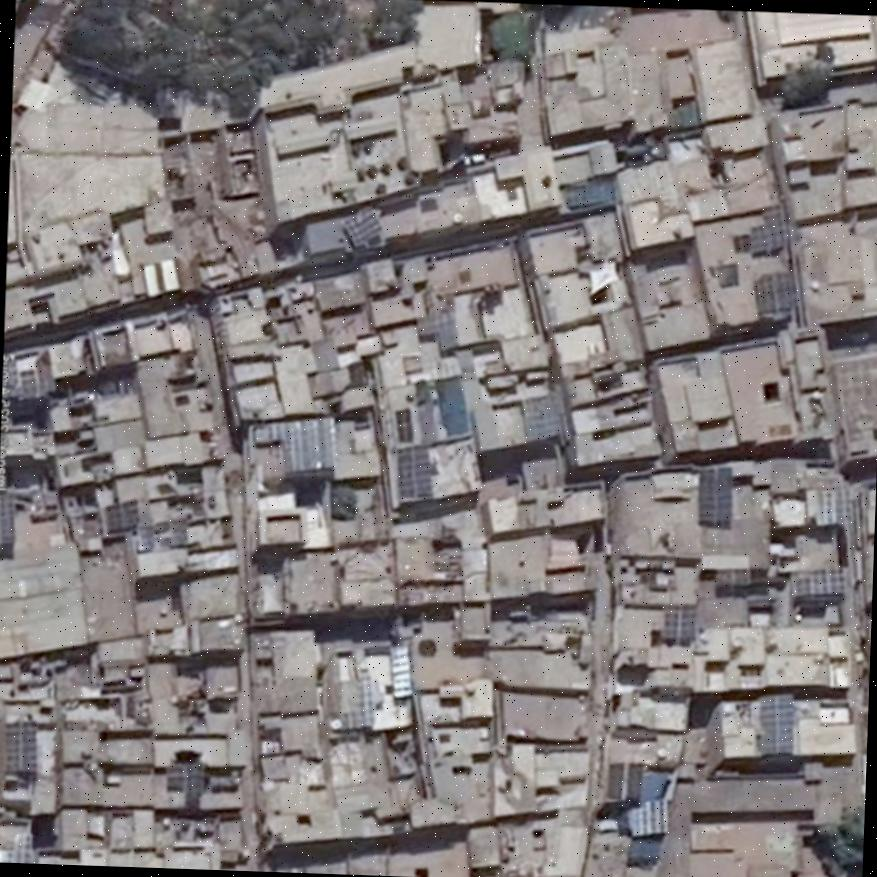Solarpanel: (698, 467, 733, 522), (761, 693, 792, 754), (397, 444, 431, 496), (745, 211, 785, 254), (3, 720, 35, 772), (793, 567, 847, 595), (754, 272, 791, 312), (343, 207, 383, 244), (628, 798, 668, 834), (391, 644, 411, 697), (663, 608, 697, 638), (0, 490, 15, 541)
